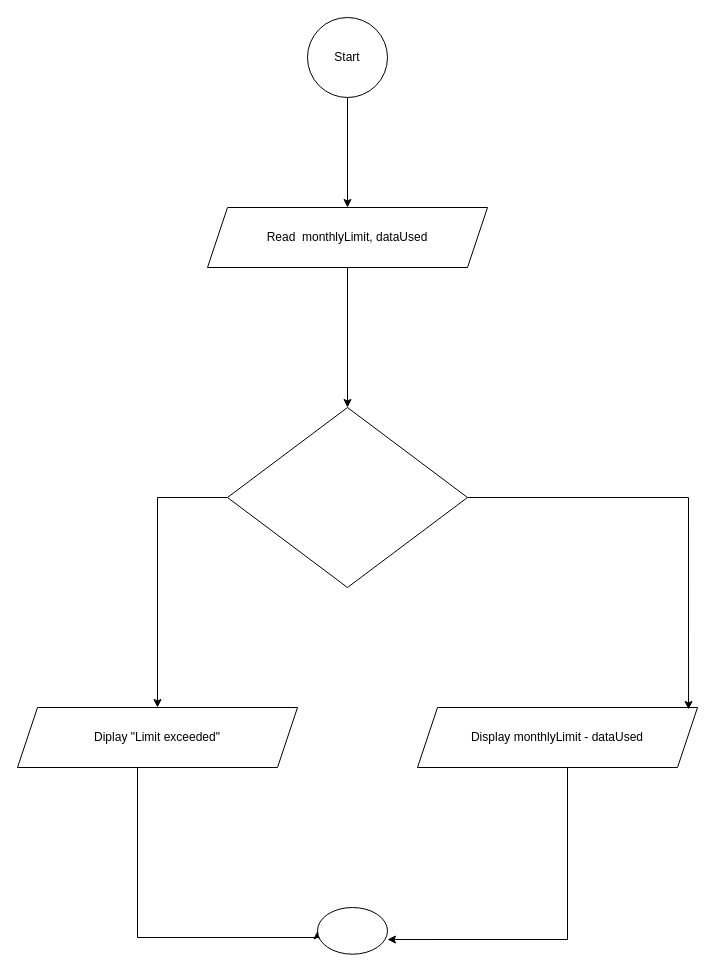
Some shapes in this 715 by 972 pixel diagram are drawn without their labels. Each missing label, with the centre of its shape:
"dataUsed > monthlylimit?" belongs at point (347, 497).
"End" belongs at point (352, 930).
